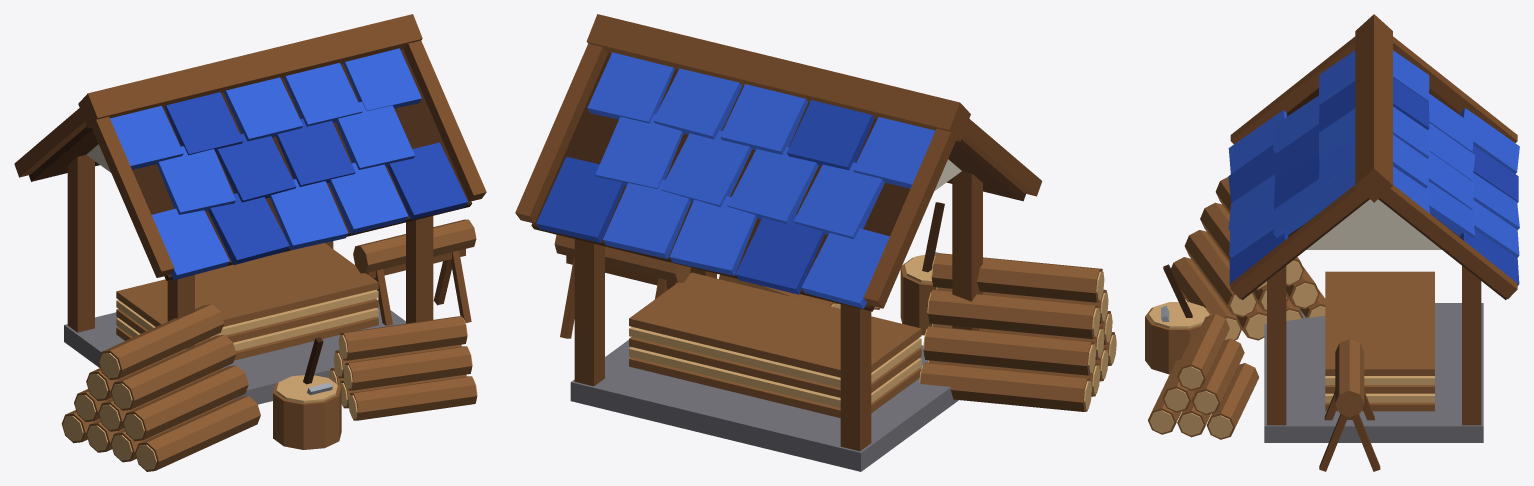
The model's file is Lumberyard.glb.
3 renders of one model, left to right at view 1: azimuth 30°, elevation 25°; view 2: azimuth 150°, elevation 25°; view 3: azimuth 270°, elevation 25°, orthographic. The views are drawn at different scales.
Visible parts, largest first — view 1: Lumberyard; view 2: Lumberyard; view 3: Lumberyard.
Boxes of the visible parts, <box> form: Lumberyard: <box>14,14,486,471</box>; Lumberyard: <box>515,14,1116,471</box>; Lumberyard: <box>1145,14,1519,471</box>.
Size of the model in its own units: 2.9 by 1.89 by 2.21.
